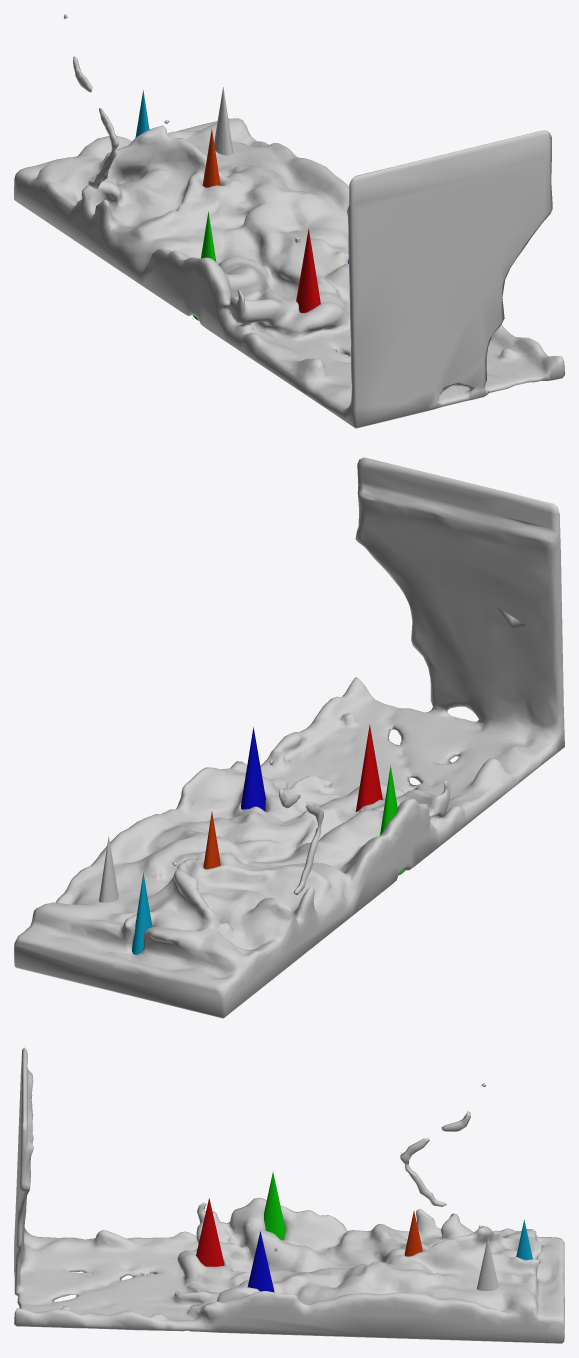
The picture shows the model from 3 angles, top to bottom: view 1: azimuth 30°, elevation 25°; view 2: azimuth 150°, elevation 25°; view 3: azimuth 270°, elevation 25°; orthographic projection. The views are drawn at different scales.
Parts seen in each view (by area): view 1: Liquid_Domain, 円錐.001, 円錐, 円錐.004; view 2: Liquid_Domain, 円錐.002, 円錐.001, 円錐.005, 円錐; view 3: Liquid_Domain, 円錐.001, 円錐.002, 円錐.003, 円錐, 円錐.004.
Boxes of the visible parts, left/top/right/bottom form: Liquid_Domain: left=14, top=14, right=564, bottom=428; 円錐.001: left=296, top=229, right=320, bottom=313; 円錐: left=214, top=87, right=233, bottom=155; 円錐.004: left=202, top=129, right=220, bottom=187; Liquid_Domain: left=14, top=457, right=564, bottom=1018; 円錐.002: left=241, top=727, right=265, bottom=811; 円錐.001: left=356, top=724, right=382, bottom=811; 円錐.005: left=132, top=872, right=152, bottom=954; 円錐: left=99, top=836, right=118, bottom=902; Liquid_Domain: left=14, top=1047, right=564, bottom=1343; 円錐.001: left=196, top=1198, right=224, bottom=1266; 円錐.002: left=247, top=1231, right=274, bottom=1292; 円錐.003: left=264, top=1172, right=285, bottom=1240; 円錐: left=477, top=1237, right=498, bottom=1291; 円錐.004: left=404, top=1210, right=422, bottom=1256.
Bounding box in the file's own units: 129 × 157 × 361.
